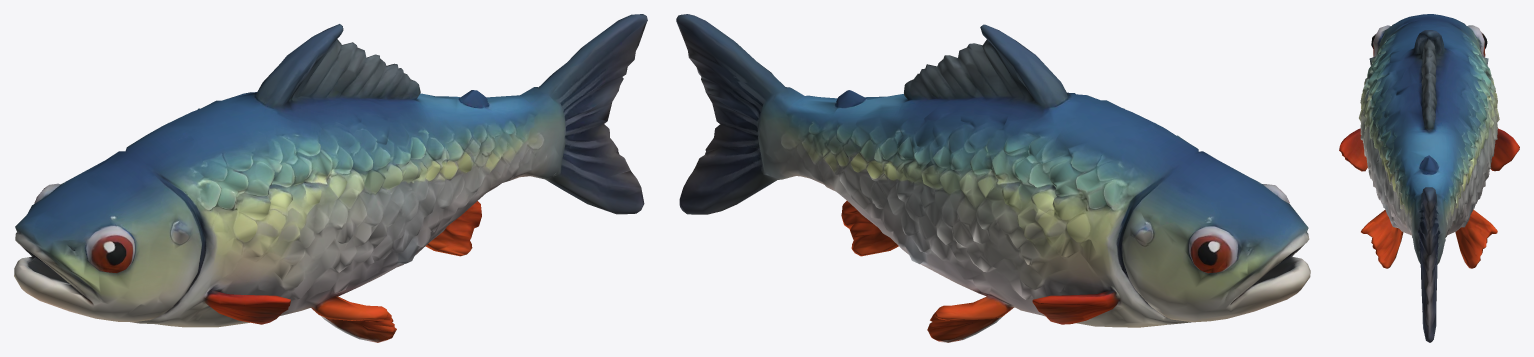
The model's file is fish-plotva.glb.
3 views of the same model, side by side, from view 1: azimuth 30°, elevation 25°; view 2: azimuth 150°, elevation 25°; view 3: azimuth 270°, elevation 25° (orthographic). The views are drawn at different scales.
Visible parts, largest first — view 1: tripo_node_f4ce7ea7-e93a-4a59-b2f4-fd5cf5d85e63; view 2: tripo_node_f4ce7ea7-e93a-4a59-b2f4-fd5cf5d85e63; view 3: tripo_node_f4ce7ea7-e93a-4a59-b2f4-fd5cf5d85e63.
Part boxes in pixels (x1,y1,x2,y2): tripo_node_f4ce7ea7-e93a-4a59-b2f4-fd5cf5d85e63: (14, 14, 647, 342); tripo_node_f4ce7ea7-e93a-4a59-b2f4-fd5cf5d85e63: (676, 14, 1310, 342); tripo_node_f4ce7ea7-e93a-4a59-b2f4-fd5cf5d85e63: (1339, 14, 1519, 342).
Bounding box in the file's own units: 1 × 0.4587 × 0.3251.
Materials: 1 (1 with a texture image).
